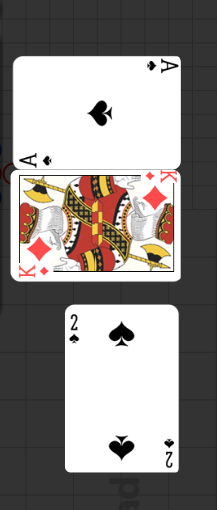2S: (162, 436, 175, 469)
AS: (18, 151, 55, 168)
KD: (17, 265, 51, 280)
